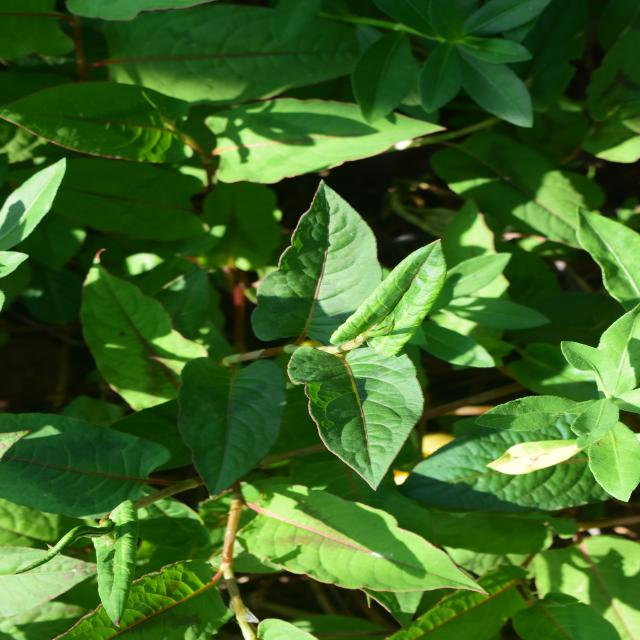Chinese_knotweed: (150, 138, 428, 452)
